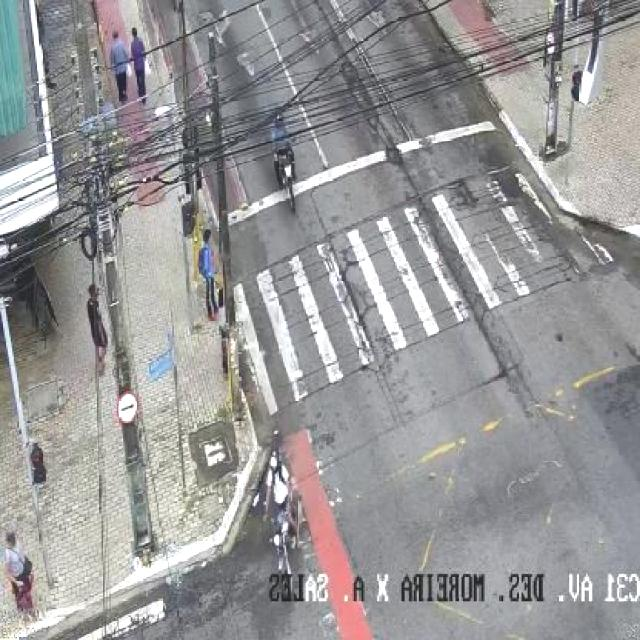Cycle: (257, 447, 308, 579), (261, 101, 316, 203)
